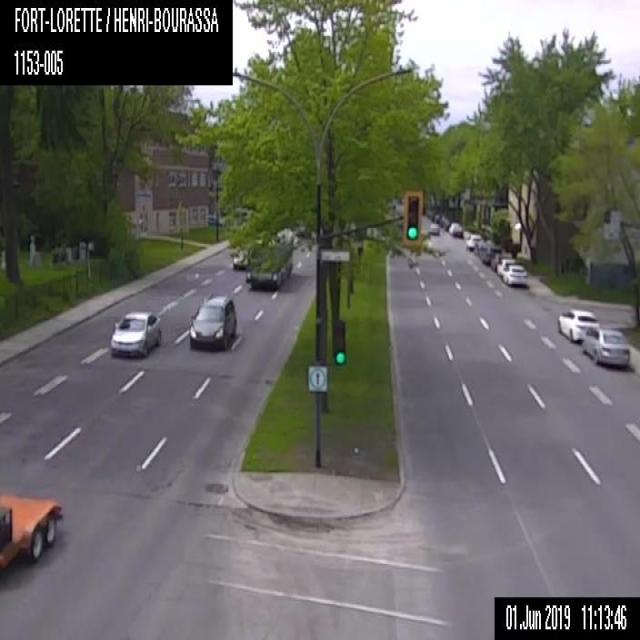bus: (245, 237, 293, 290)
vehicle: (0, 480, 64, 601), (189, 295, 237, 352), (107, 311, 161, 358), (583, 328, 631, 370), (558, 307, 598, 341), (502, 264, 529, 286), (497, 258, 519, 276), (479, 244, 501, 262), (232, 247, 248, 270), (490, 251, 510, 268), (465, 232, 483, 248), (448, 221, 462, 236), (428, 221, 438, 234)
